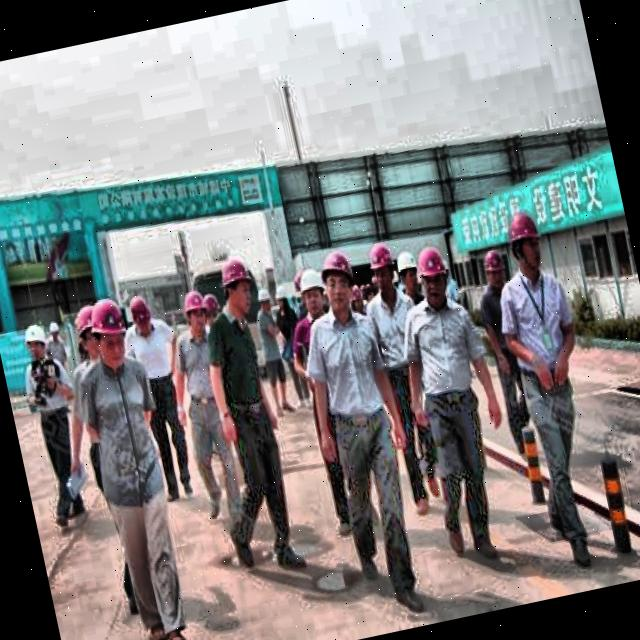helmet: (500, 206, 548, 280), (210, 248, 256, 320), (85, 297, 133, 365), (314, 243, 358, 314), (411, 240, 454, 307), (362, 236, 403, 299), (296, 260, 332, 322), (69, 305, 103, 362), (394, 246, 424, 302), (178, 286, 211, 336), (124, 289, 157, 339), (17, 318, 51, 366), (479, 244, 509, 290), (199, 289, 227, 336), (252, 282, 278, 321), (270, 278, 292, 314)
